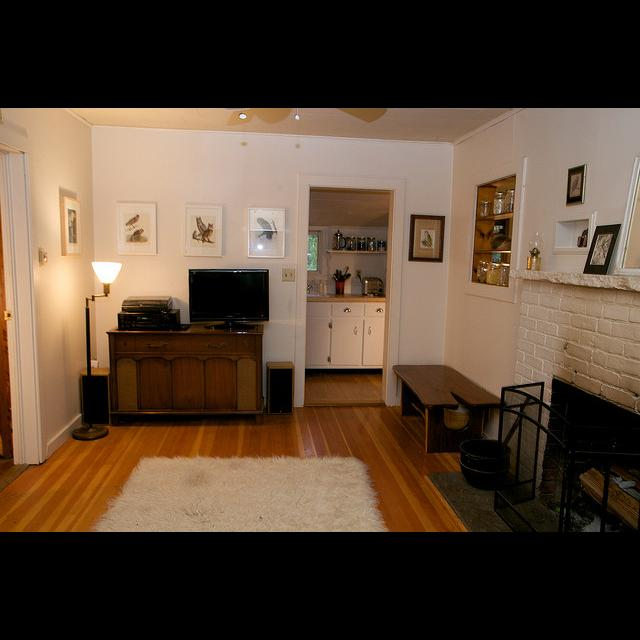Flat-Panel-TV: (189, 270, 271, 329)
